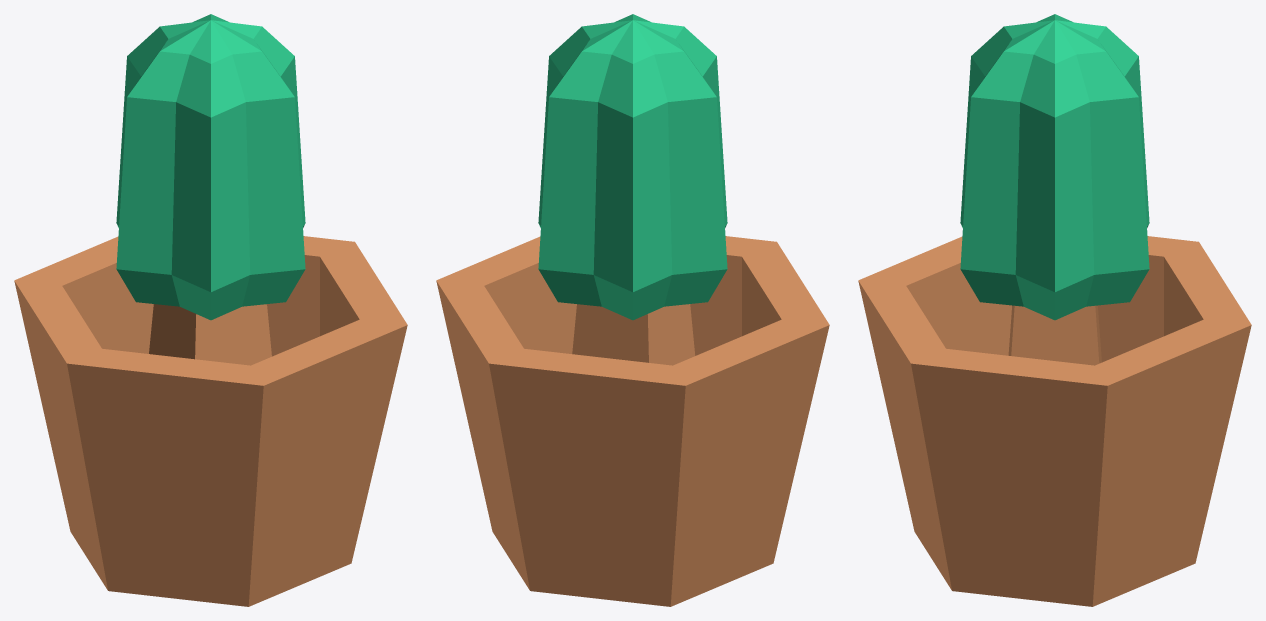
The model's file is plantSmall2.obj.
3 renders of one model, left to right at view 1: azimuth 30°, elevation 25°; view 2: azimuth 150°, elevation 25°; view 3: azimuth 270°, elevation 25°, orthographic.
Size of the model in its own units: 0.0947 by 0.14 by 0.0947.
